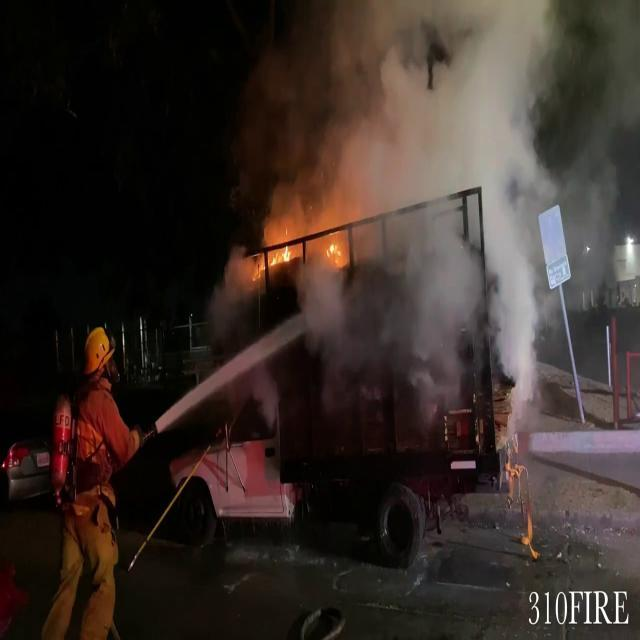Fire: (252, 217, 298, 277)
Smoke: (260, 0, 640, 322)
